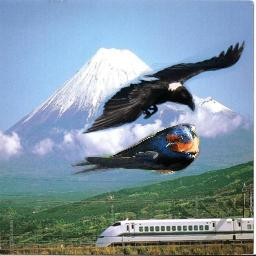Crow: (81, 38, 247, 134)
Swallow: (71, 123, 201, 175)
